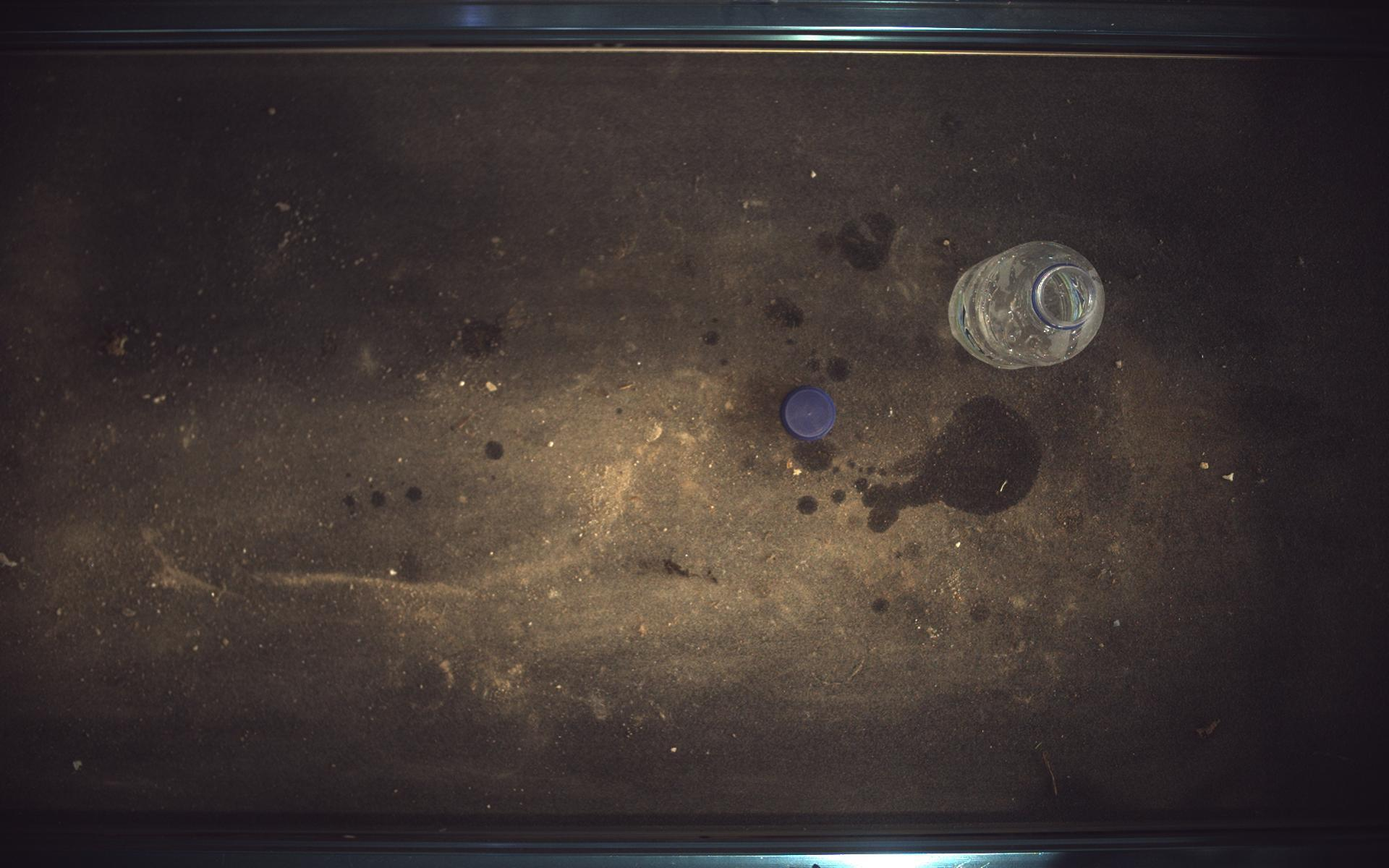general_w: (781, 386, 838, 441)
